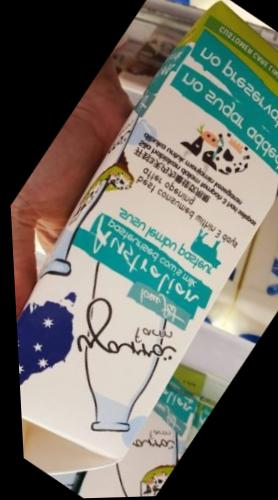cardboard: (12, 0, 277, 499)
